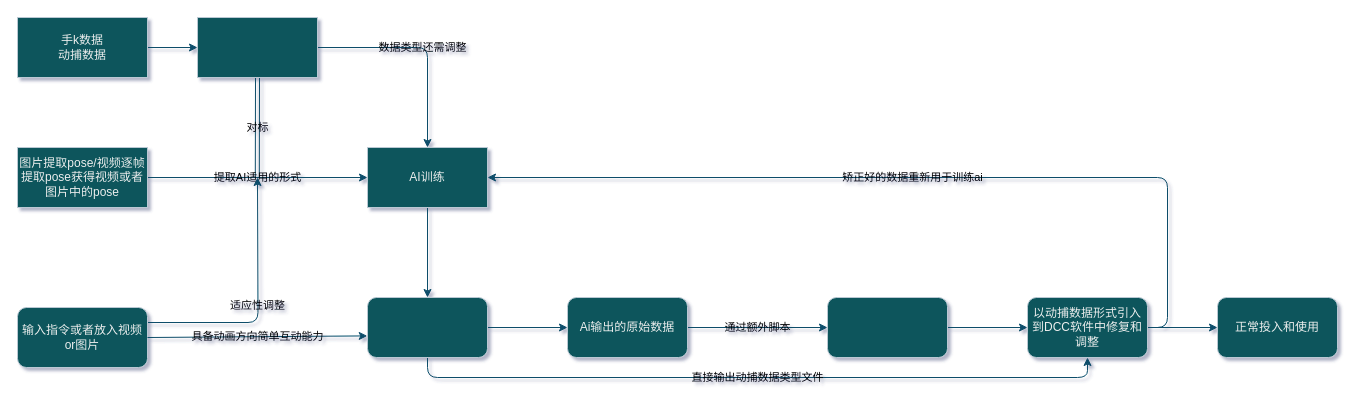
The diagram is 1361 pixels wide and 409 high, and some of its shapes have lost their labels. Each missing label, with the box of its shape:
AI: (366, 296, 488, 358)
fbx格式，或者其他格式的数据: (196, 16, 318, 78)
转换DCC软件适合的格式或者数据类型 比如动捕数据: (826, 296, 948, 358)
